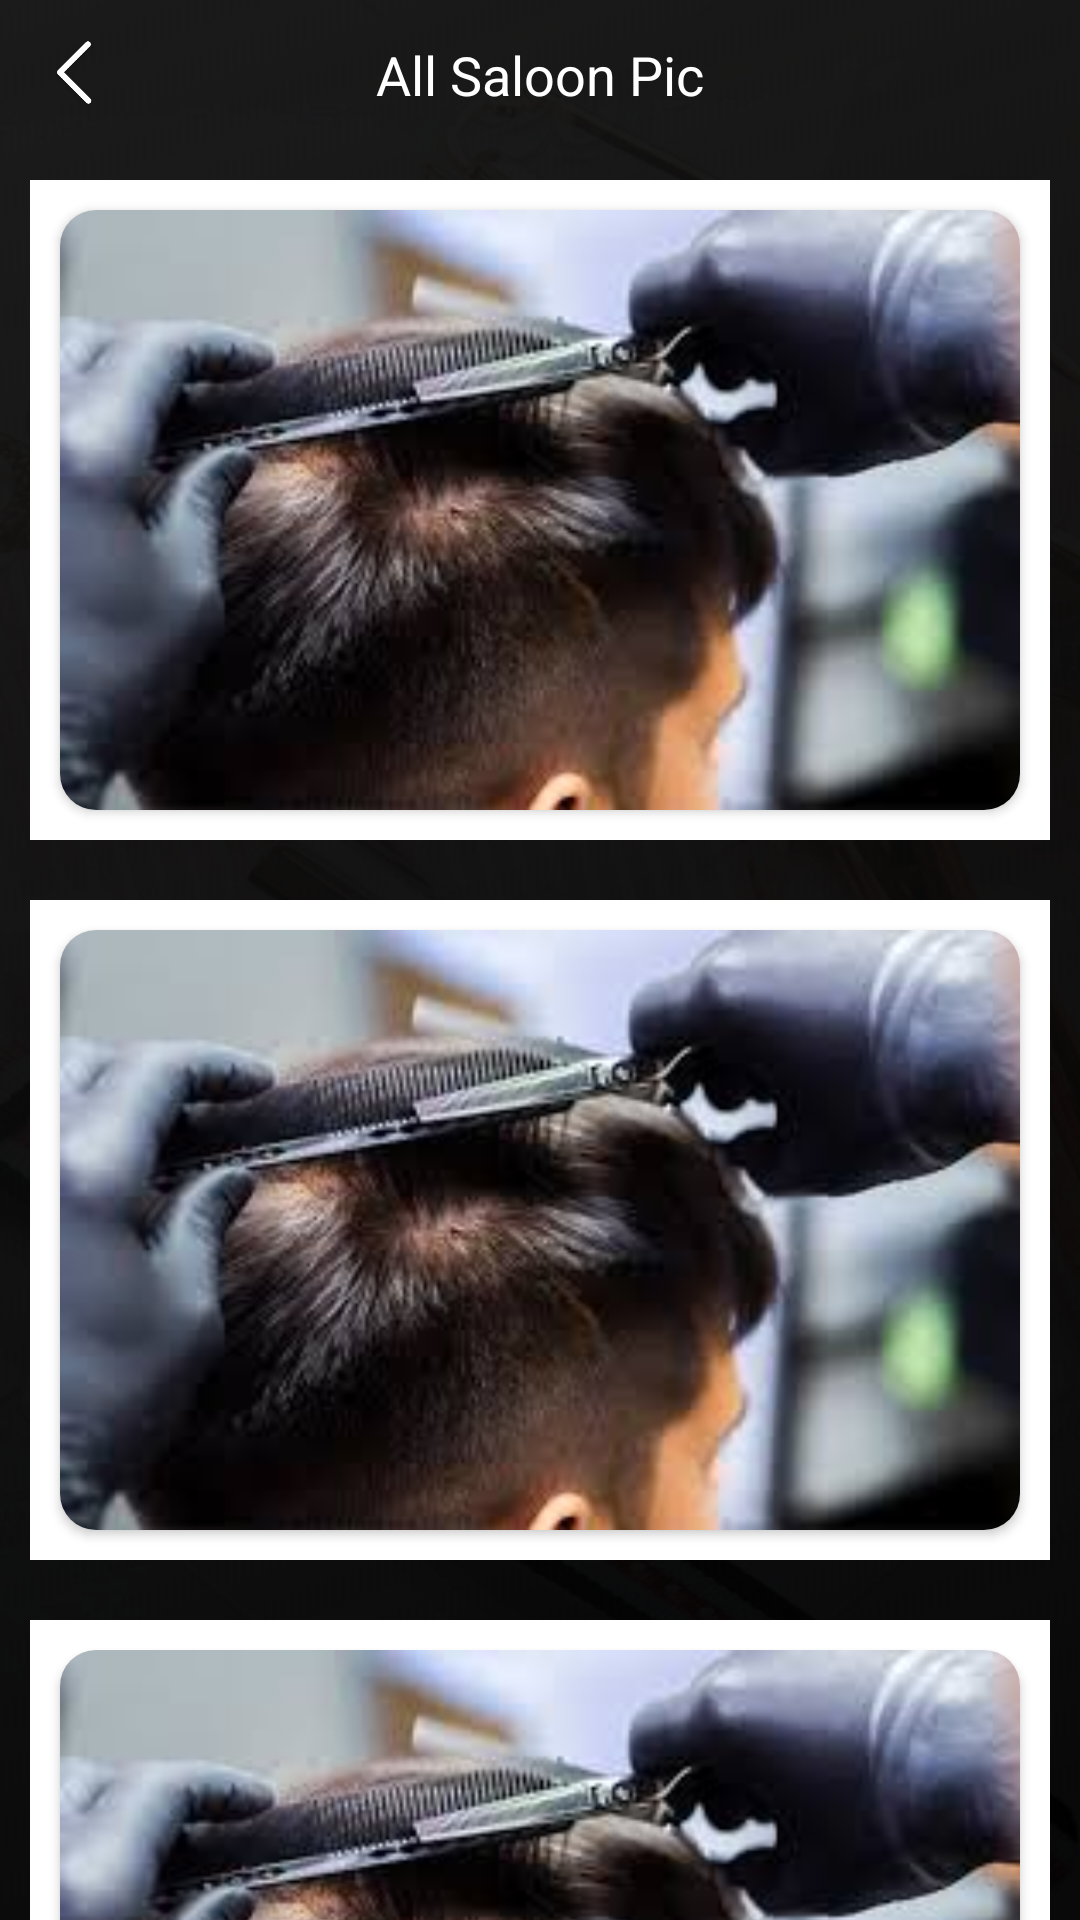

Screen size 1080px×1920px. Icon name, then its center in pixels as [x,y]:
back: [74,72]
